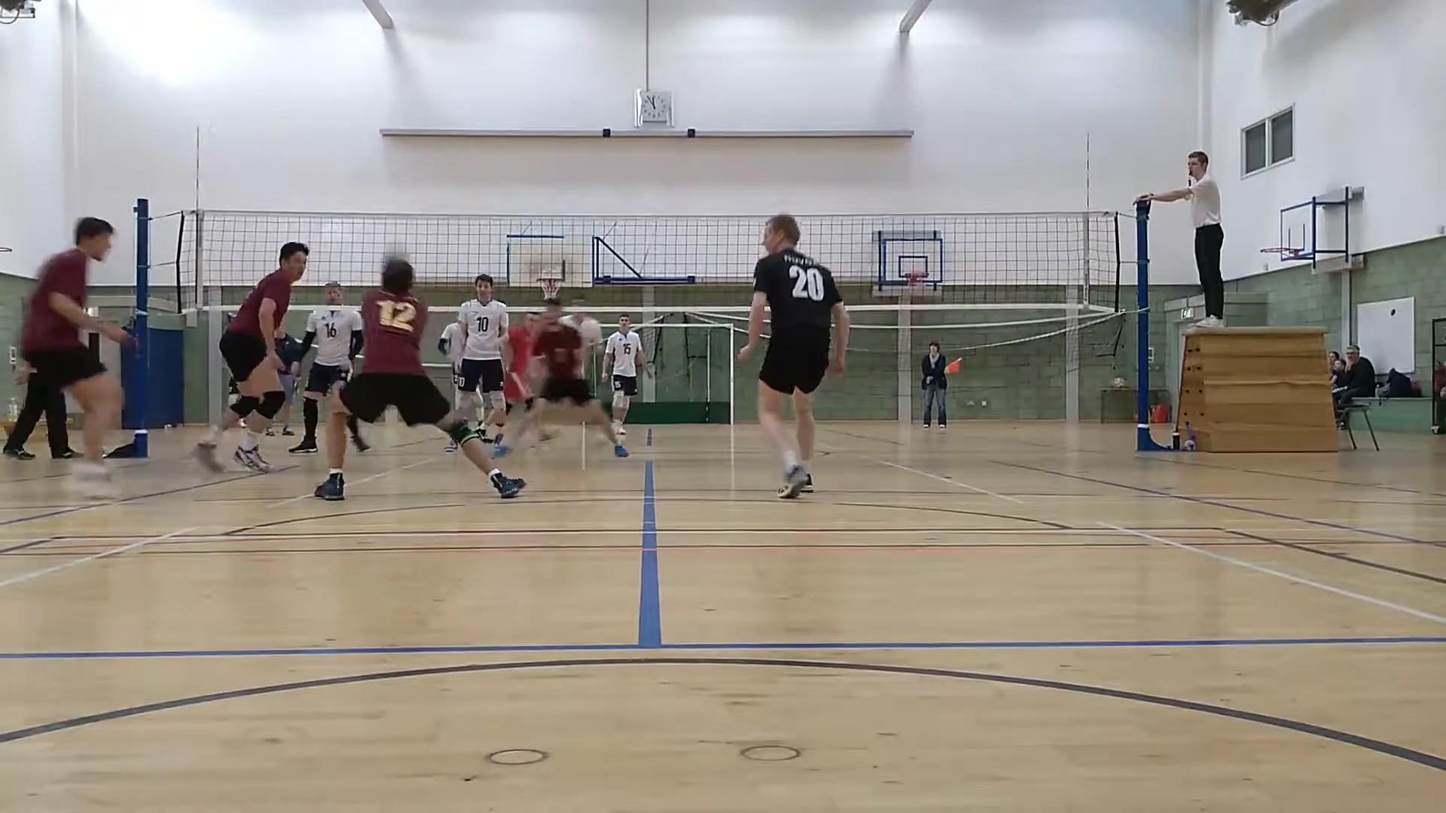ricezione: (307, 249, 530, 497)
